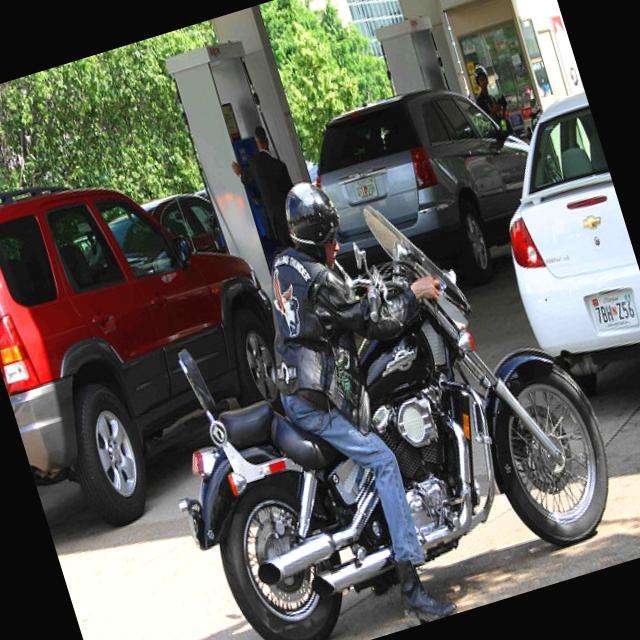Vehicle: (106, 142, 637, 640), (0, 121, 320, 545), (296, 63, 560, 330), (458, 69, 640, 410), (147, 183, 230, 277)
